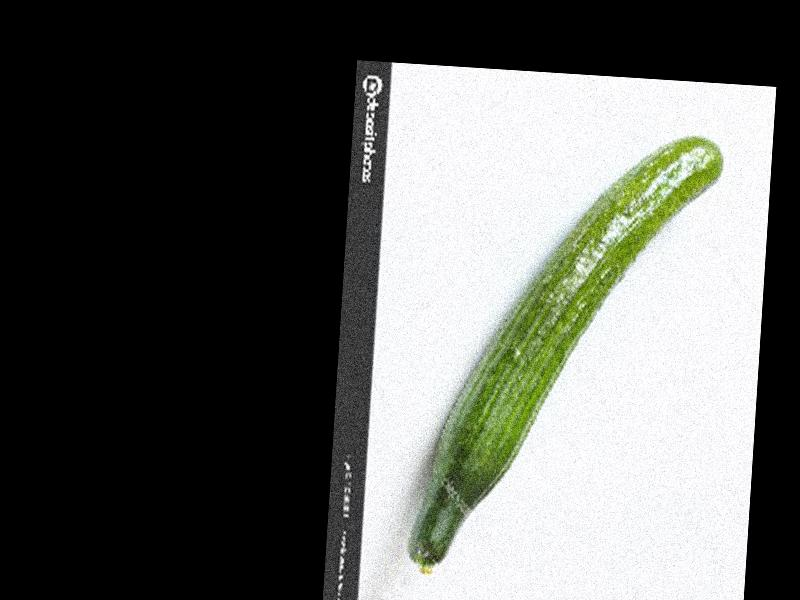Cucumber: (409, 122, 724, 591)
